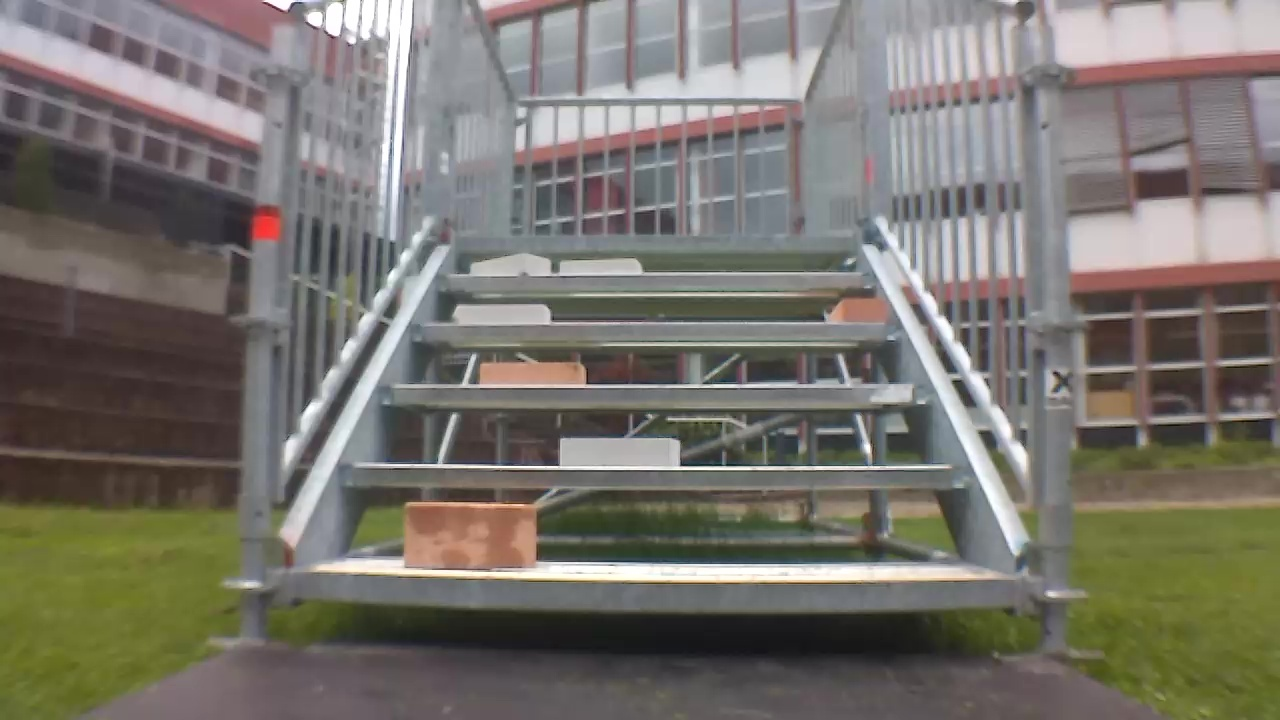brick: (403, 502, 534, 568), (559, 436, 679, 466), (481, 364, 585, 385), (470, 254, 549, 275), (458, 305, 549, 323), (561, 258, 642, 274), (831, 298, 885, 322)
edge: (294, 572, 1017, 613), (341, 463, 965, 489), (383, 384, 935, 408), (409, 323, 899, 341), (435, 272, 874, 291), (457, 235, 852, 251)
stairs: (225, 1, 1085, 661)
steps: (289, 230, 1020, 622)
